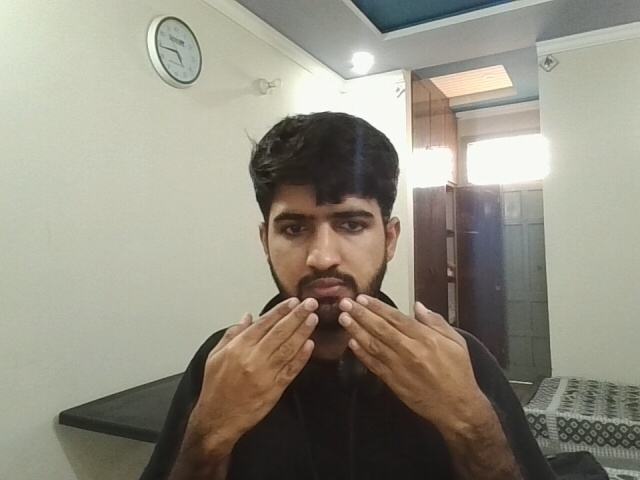Thanks: (163, 285, 514, 441)
